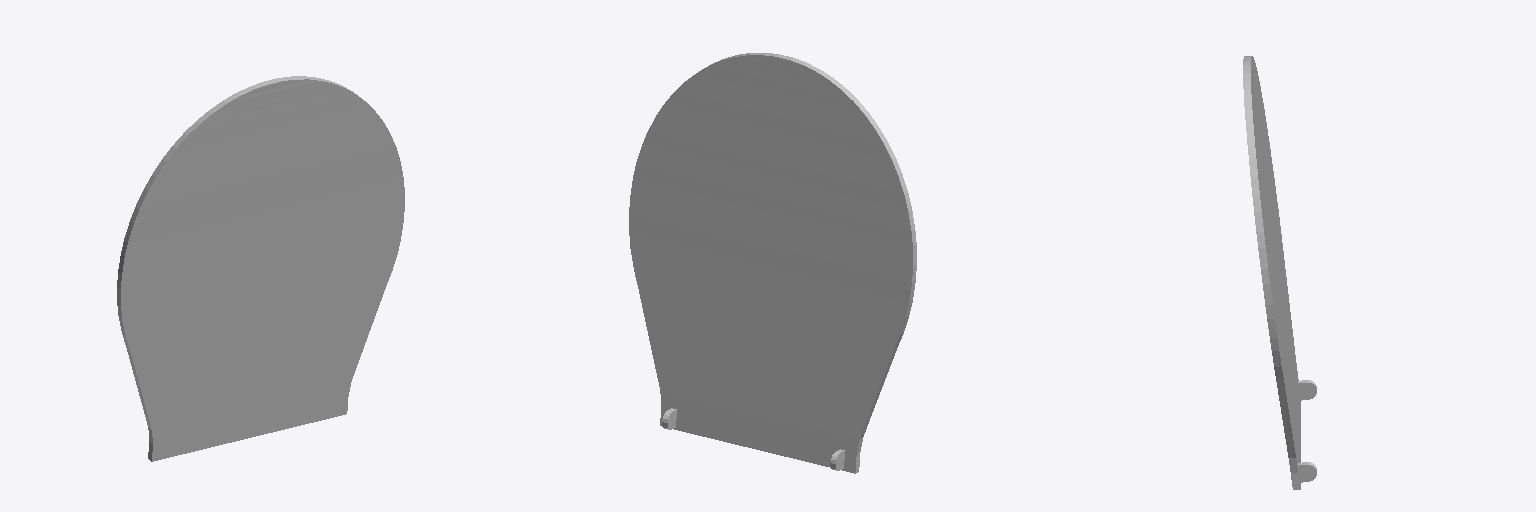
The model's file is ToiletLid.obj.
3 renders of one model, left to right at view 1: azimuth 30°, elevation 25°; view 2: azimuth 150°, elevation 25°; view 3: azimuth 270°, elevation 25°, orthographic.
Visible parts, largest first — view 1: SM_Toilet_Lid; view 2: SM_Toilet_Lid; view 3: SM_Toilet_Lid.
Boxes of the visible parts, x1,y1,x2,y2 form: SM_Toilet_Lid: [117, 76, 404, 461]; SM_Toilet_Lid: [629, 53, 916, 473]; SM_Toilet_Lid: [1243, 56, 1316, 489].
Bounding box in the file's own units: 0.3669 × 0.4629 × 0.0832.